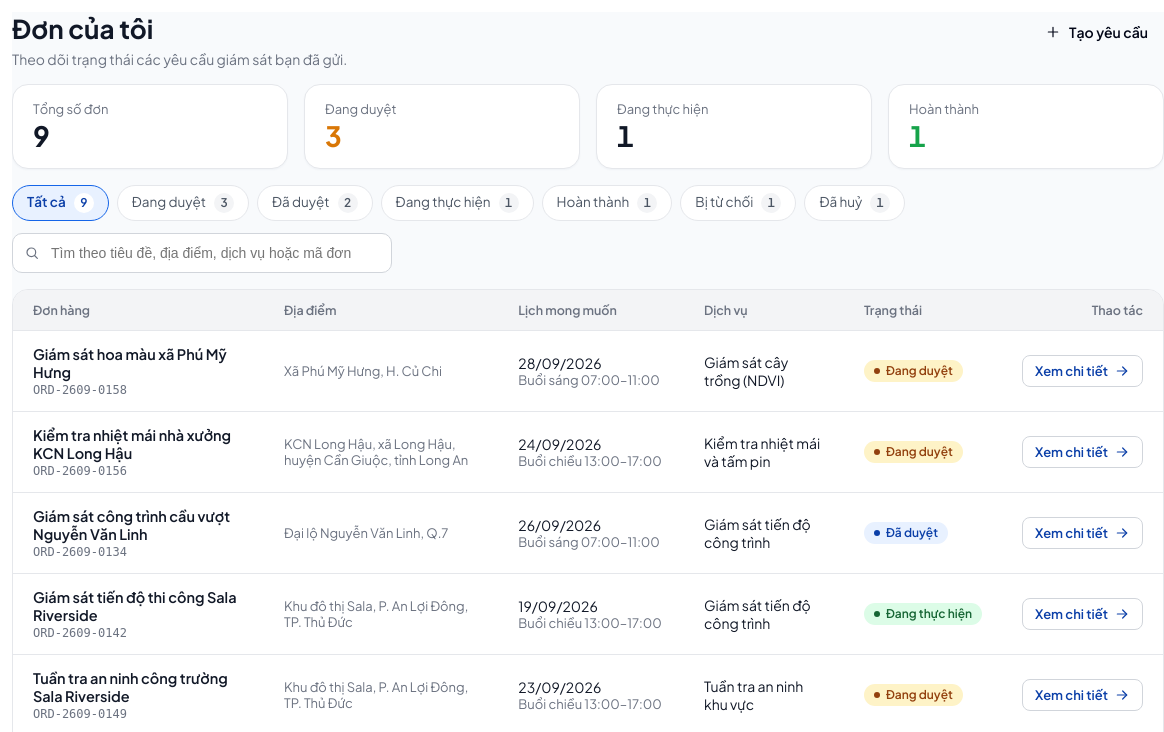
it: OrdersPage › searches client-side and shows a filtered empty state that can be cleared
Type "cát lái" into the search field named "Tìm đơn hàng" at (202, 253), box left=12, top=233, right=392, bottom=273
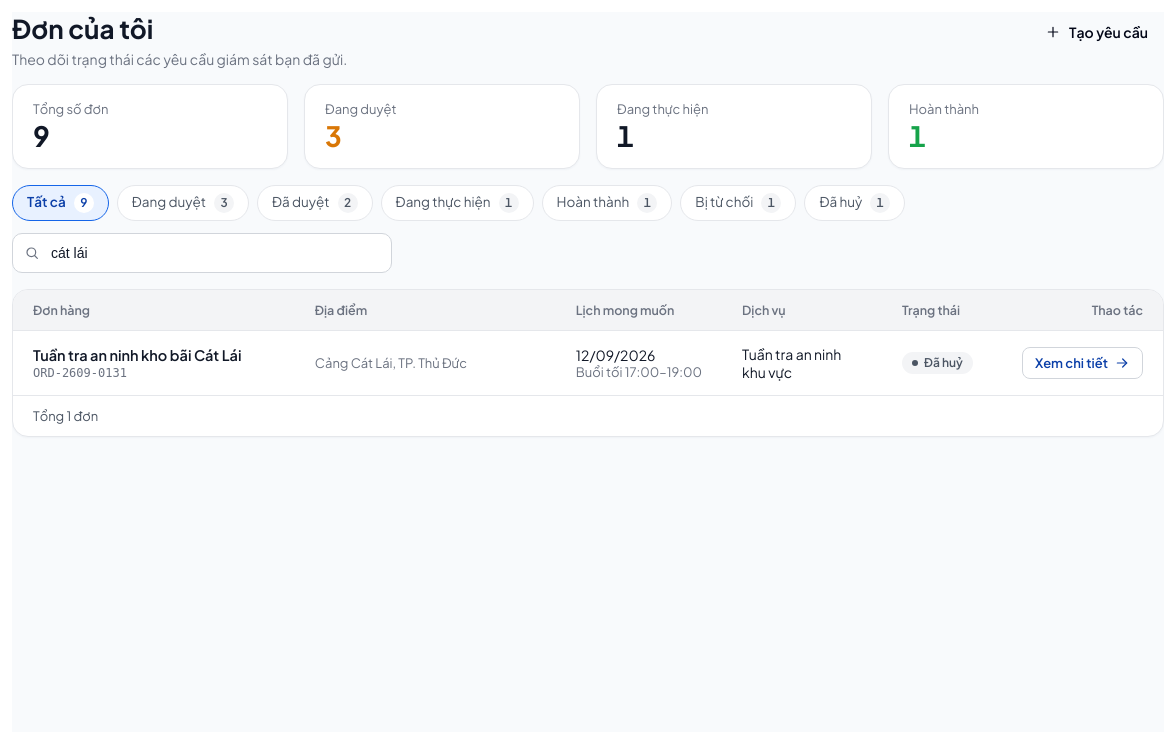
Replace the text in the search field named "Tìm đơn hàng" with "không có đơn nào như vậy" at (202, 253), box left=12, top=233, right=392, bottom=273
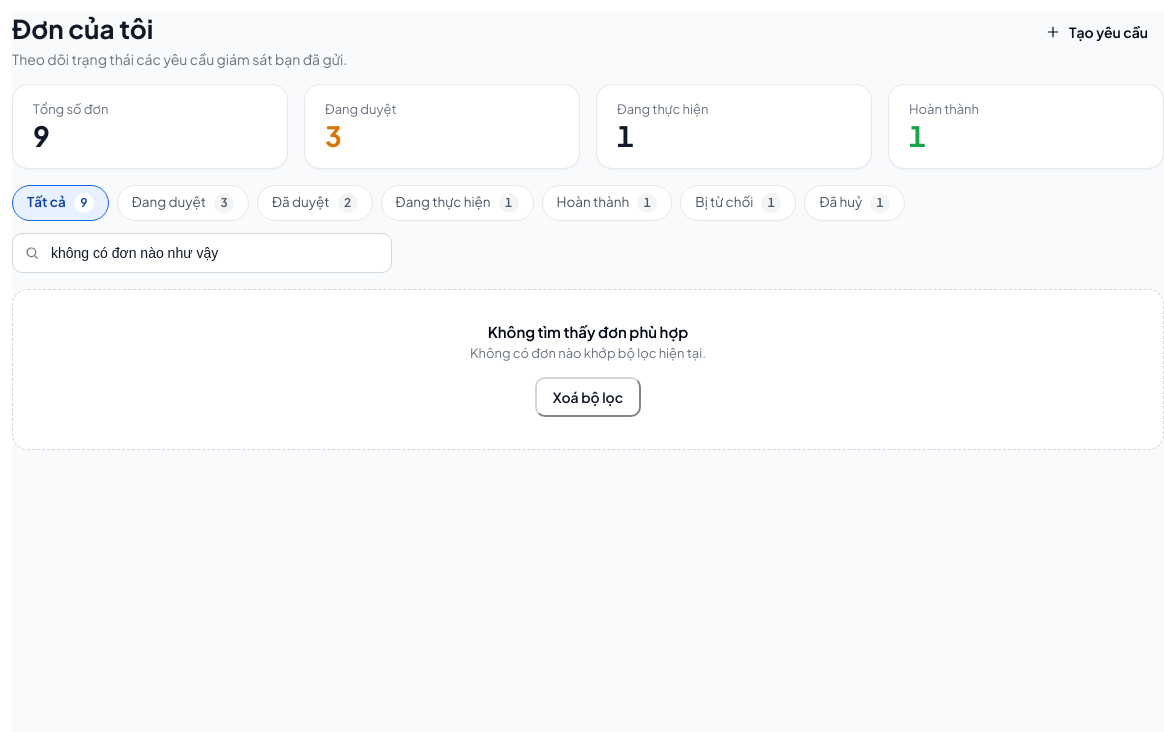
Expected: the text "Không có đơn nào khớp bộ lọc hiện tại." is shown, left=470, top=345, right=706, bottom=361
Click the button "Xoá bộ lọc" at (588, 397), box left=535, top=377, right=641, bottom=417
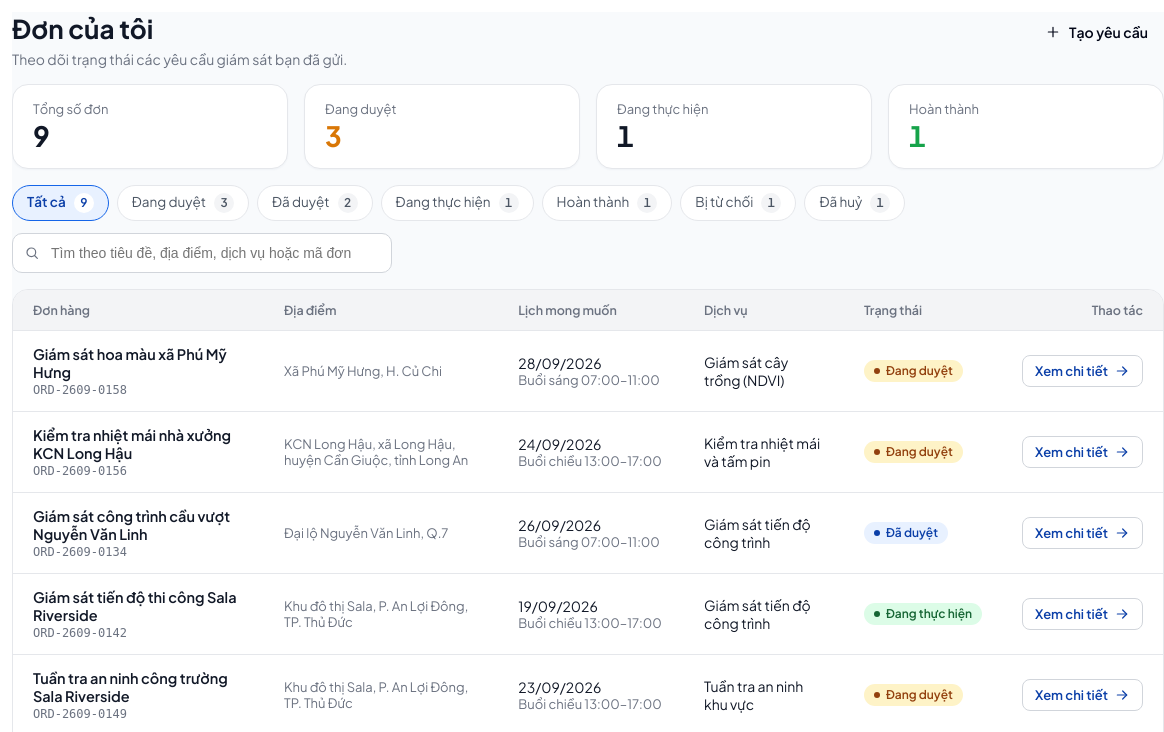
Expected: the number of rows is 10
